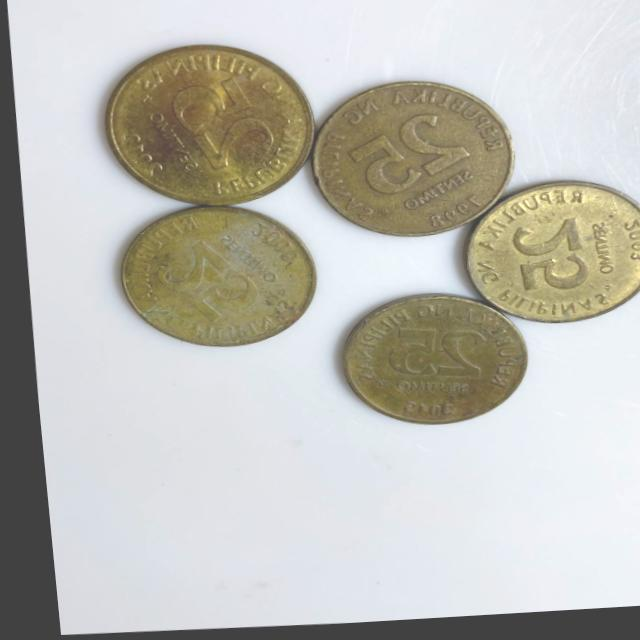25Cent_Old_Front: (163, 78, 277, 170), (347, 113, 458, 201), (150, 244, 249, 326), (378, 321, 492, 386), (495, 222, 580, 302)
